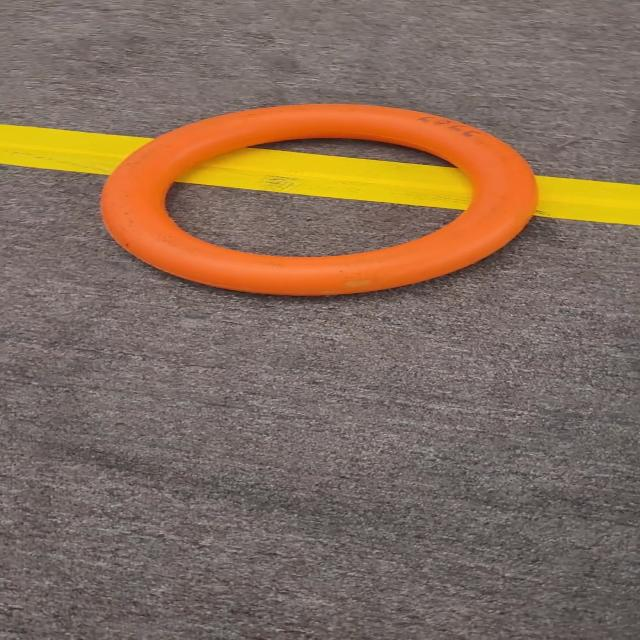note: (93, 97, 567, 313)
